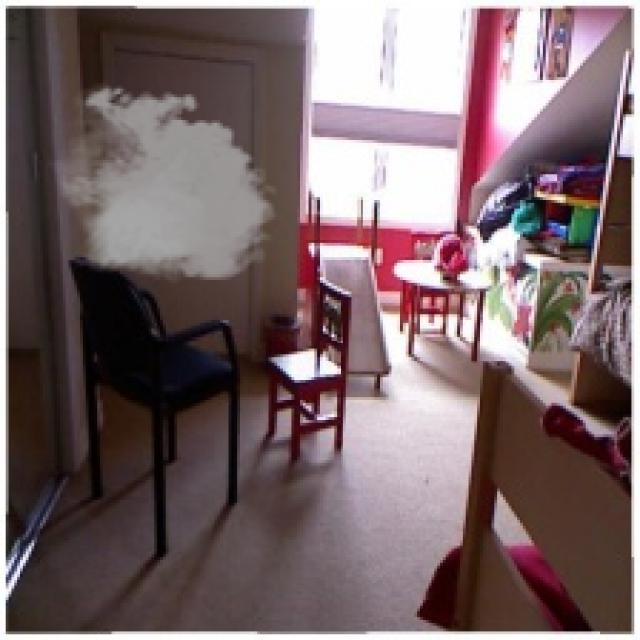smoke: (46, 80, 283, 289)
